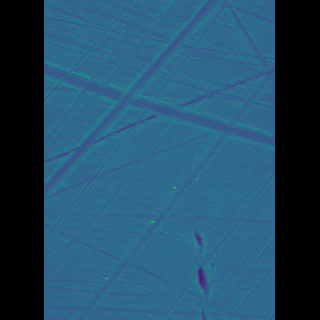Loch: (77, 0, 206, 204), (182, 226, 199, 320)
